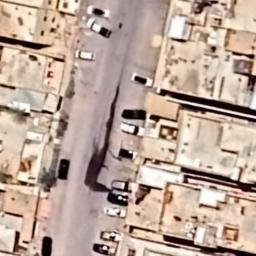SUV: (118, 121, 146, 139)
pickup: (86, 18, 115, 38)
sedan: (100, 205, 130, 220), (120, 106, 148, 122), (117, 144, 141, 162), (85, 2, 111, 18), (131, 70, 153, 88), (98, 228, 124, 242), (106, 191, 130, 206), (73, 48, 98, 62), (57, 157, 71, 181), (92, 242, 115, 256), (39, 235, 54, 256)
van: (110, 178, 138, 193)
